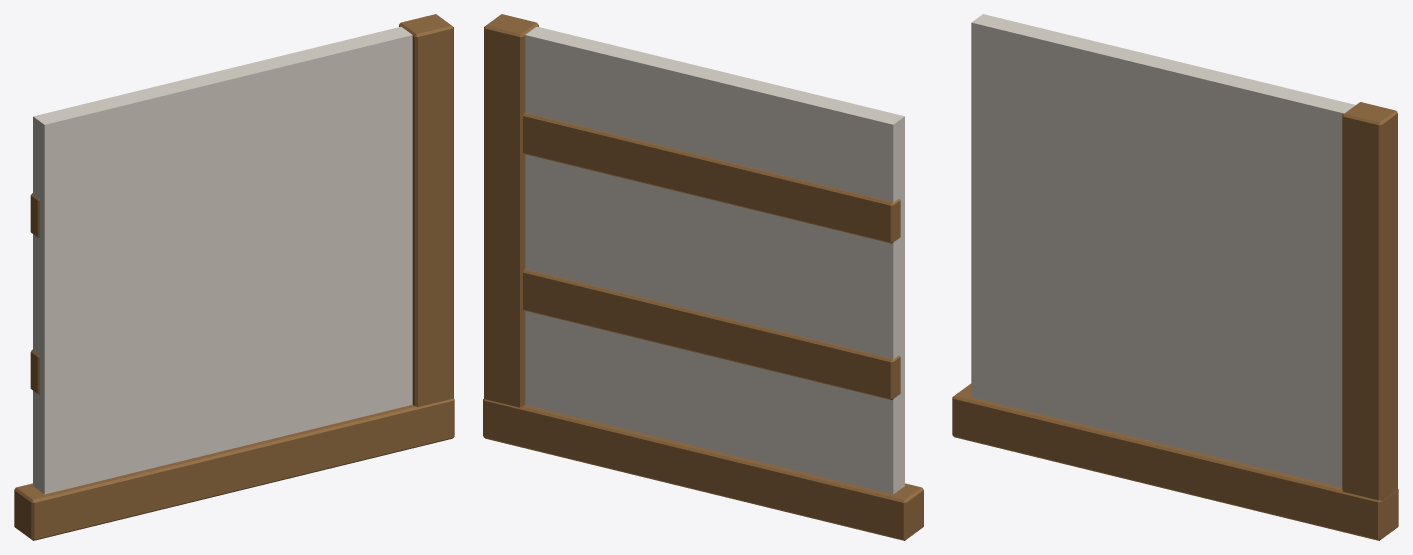
Rendered from Wall2H.fbx.
The picture shows the model from 3 angles, left to right: view 1: azimuth 30°, elevation 25°; view 2: azimuth 150°, elevation 25°; view 3: azimuth 330°, elevation 25°; orthographic projection.
Parts seen in each view (by area): view 1: Cube.037, Cube.070, Cube.046; view 2: Cube.037, Cube.070, Cube.046, Cube.062, Cube.078; view 3: Cube.037, Cube.046, Cube.070.
Part boxes in pixels (x1,y1,x2,y2): Cube.037: (33, 26, 412, 494); Cube.070: (14, 398, 454, 540); Cube.046: (399, 14, 453, 406); Cube.037: (525, 26, 904, 494); Cube.070: (483, 398, 923, 540); Cube.046: (484, 14, 538, 407); Cube.062: (523, 269, 900, 400); Cube.078: (523, 112, 900, 243); Cube.037: (971, 14, 1355, 487); Cube.046: (1342, 102, 1397, 500); Cube.070: (952, 383, 1398, 540).
Bounding box in the file's own units: 216 × 201 × 17.27.
